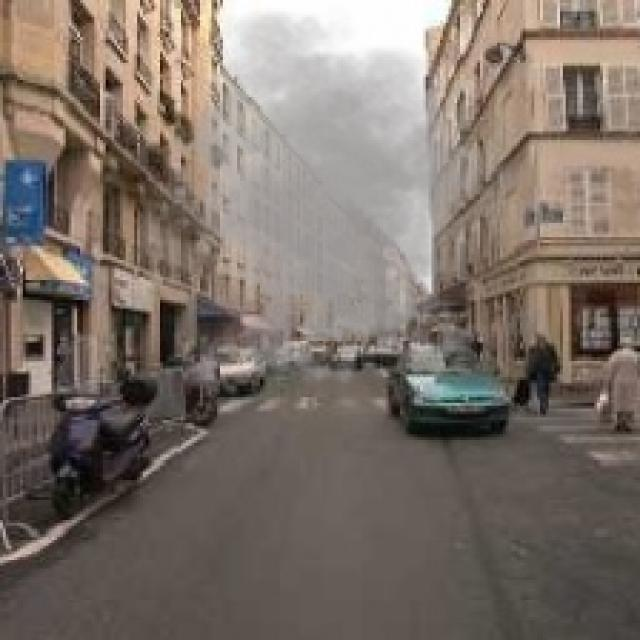Smoke: (117, 2, 540, 408)
